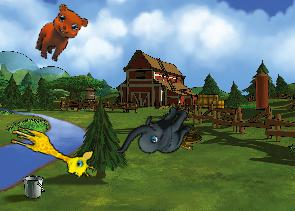bear: (31, 0, 91, 69)
elephant: (115, 90, 197, 178)
giraffe: (4, 123, 99, 181)
